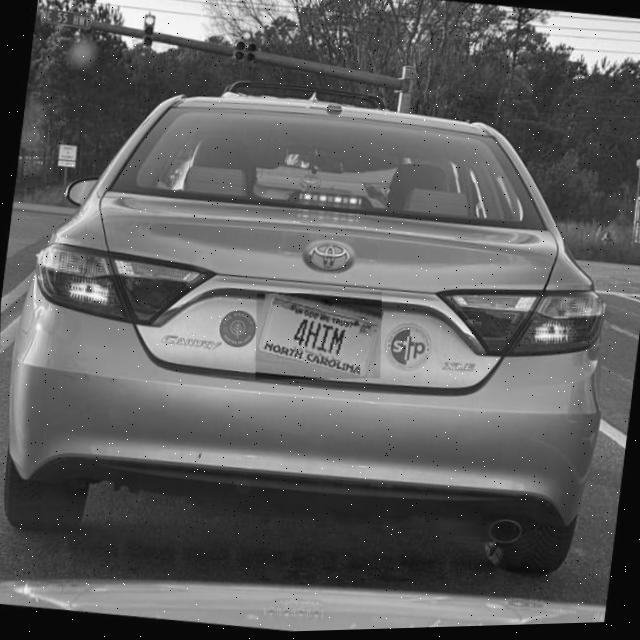LicensePlate: (255, 295, 381, 380)
